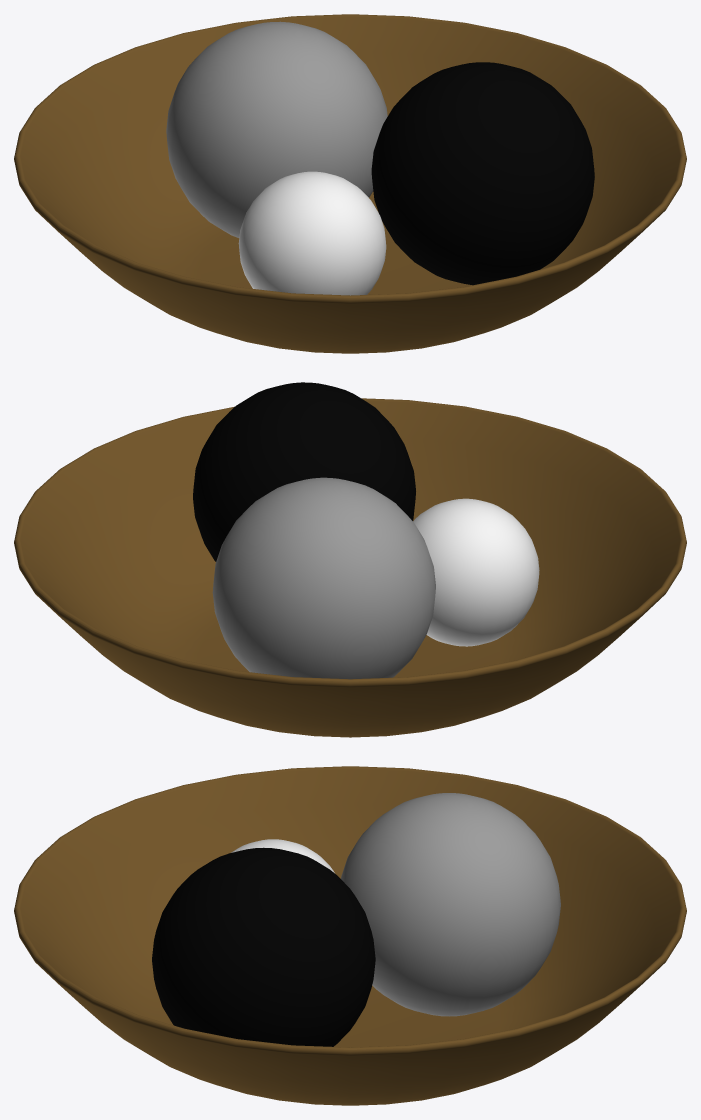
File: vase balls.FBX
3 renders of one model, top to bottom at view 1: azimuth 30°, elevation 25°; view 2: azimuth 150°, elevation 25°; view 3: azimuth 270°, elevation 25°, orthographic.
Visible parts, largest first — view 1: Vase 3, ball2, ball1, ball3; view 2: Vase 3, ball1, ball2, ball3; view 3: Vase 3, ball1, ball2, ball3.
Boxes of the visible parts, left/top/right/bottom form: Vase 3: left=14, top=14, right=686, bottom=353; ball2: left=371, top=62, right=594, bottom=285; ball1: left=166, top=21, right=387, bottom=237; ball3: left=238, top=171, right=386, bottom=295; Vase 3: left=14, top=398, right=686, bottom=737; ball1: left=212, top=477, right=435, bottom=679; ball2: left=193, top=382, right=415, bottom=561; ball3: left=413, top=498, right=539, bottom=646; Vase 3: left=14, top=766, right=686, bottom=1105; ball1: left=341, top=793, right=560, bottom=1016; ball2: left=152, top=847, right=375, bottom=1046; ball3: left=231, top=839, right=334, bottom=873.
Bounding box in the file's own units: 12.39 × 12.39 × 4.39.
